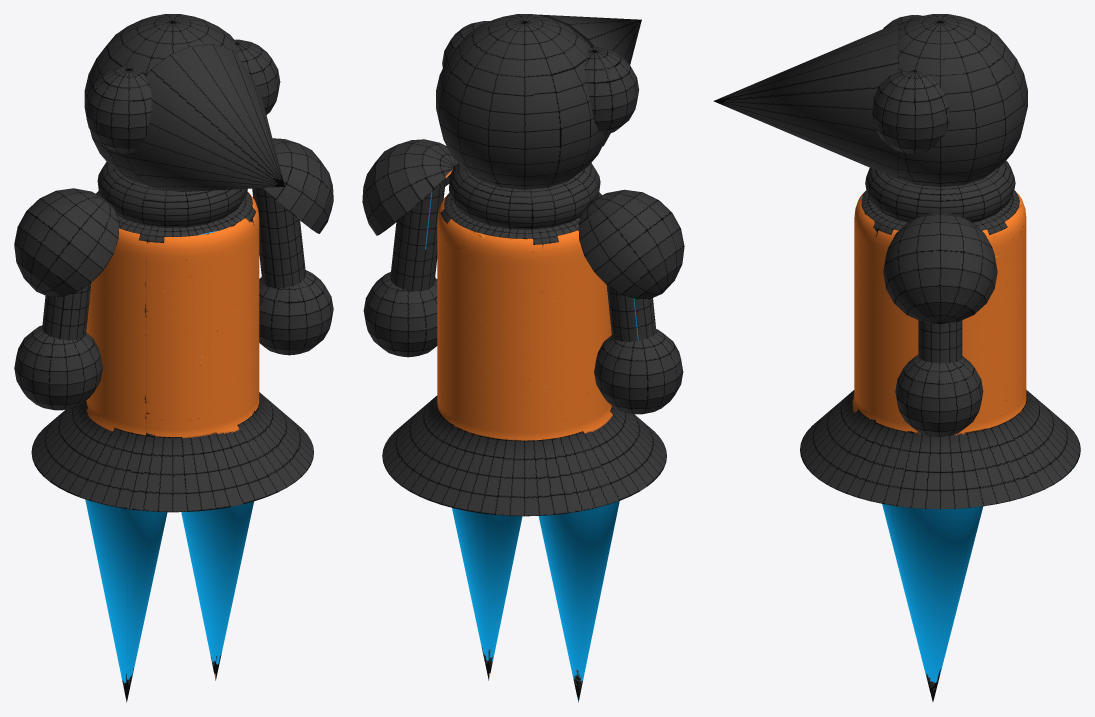
Rendered from MayaKnight-Blender.obj.
The picture shows the model from 3 angles, left to right: view 1: azimuth 30°, elevation 25°; view 2: azimuth 150°, elevation 25°; view 3: azimuth 270°, elevation 25°; orthographic projection.
Parts seen in each view (by area): view 1: Maya_Knight01; view 2: Maya_Knight01; view 3: Maya_Knight01.
Part boxes in pixels (x1,y1,x2,y2): Maya_Knight01: (14, 14, 333, 702); Maya_Knight01: (362, 14, 684, 702); Maya_Knight01: (713, 14, 1080, 701).
Size of the model in its own units: 7.96 by 16.51 by 8.31.
